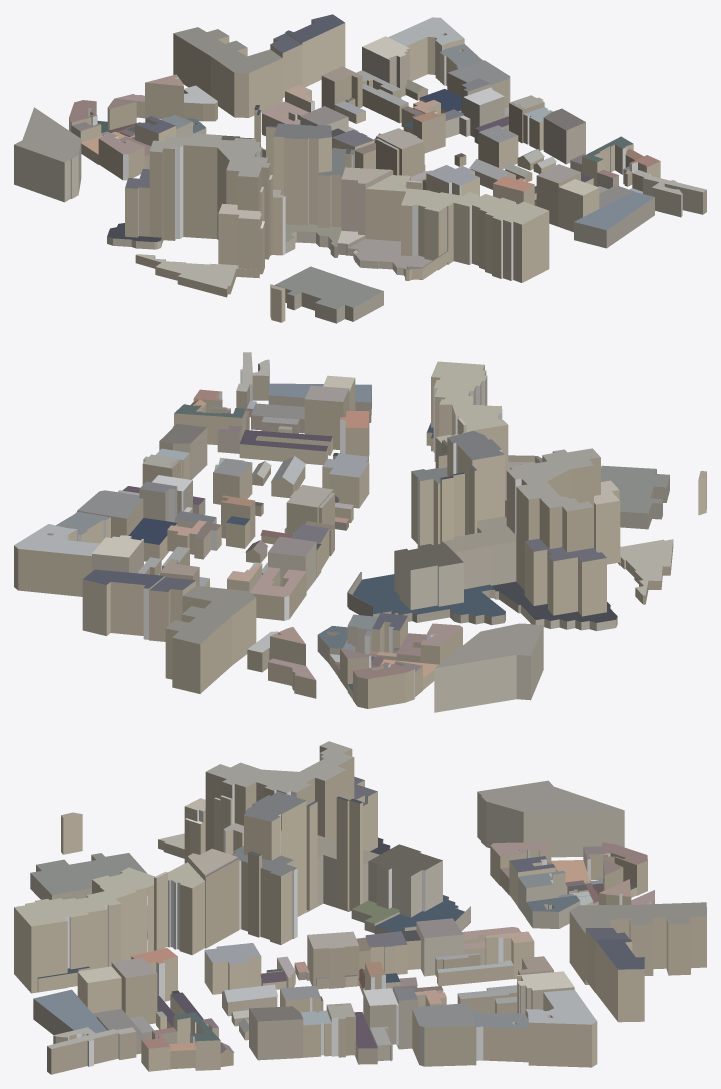
3 renders of one model, top to bottom at view 1: azimuth 30°, elevation 25°; view 2: azimuth 150°, elevation 25°; view 3: azimuth 270°, elevation 25°, orthographic. The views are drawn at different scales.
Parts seen in each view (by area): view 1: tuile; view 2: tuile; view 3: tuile.
Part boxes in pixels (x1,y1,x2,y2): tuile: [14, 14, 706, 323]; tuile: [14, 352, 706, 712]; tuile: [14, 741, 706, 1074].
Size of the model in its own units: 264 by 53.73 by 291.
